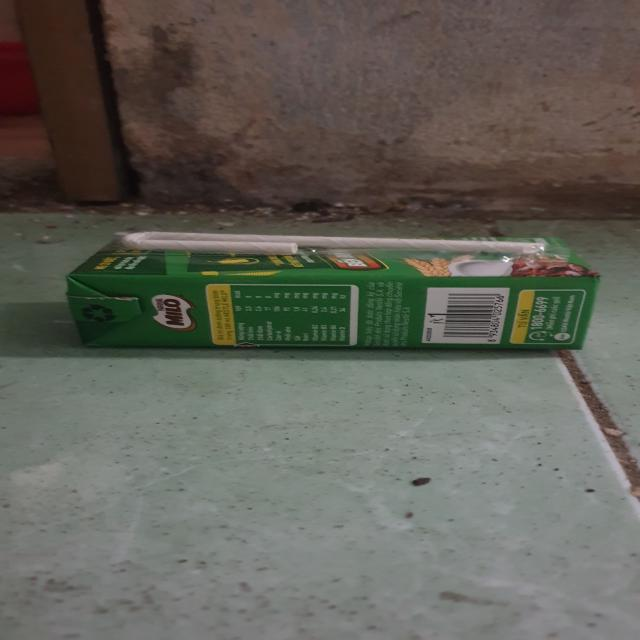Milo: (72, 236, 602, 364)
